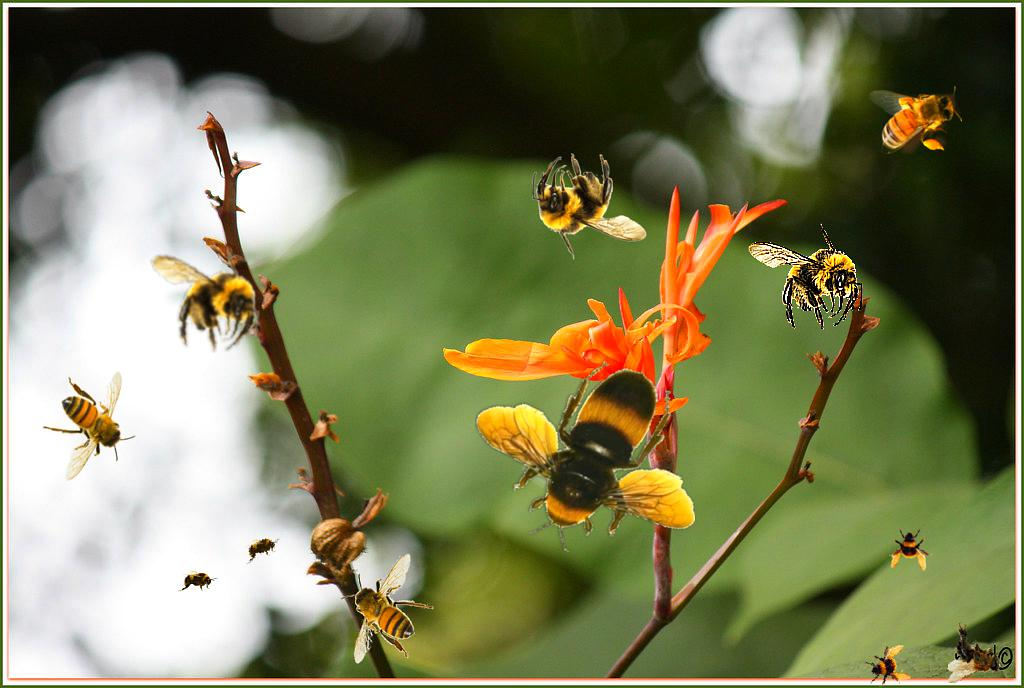Bee: (475, 361, 695, 552), (140, 235, 269, 358), (532, 153, 647, 260), (748, 223, 863, 330), (340, 553, 434, 664), (42, 371, 136, 482), (869, 86, 962, 154), (945, 620, 1008, 688), (859, 637, 915, 688), (889, 527, 933, 571), (239, 531, 285, 565), (178, 570, 218, 592)
